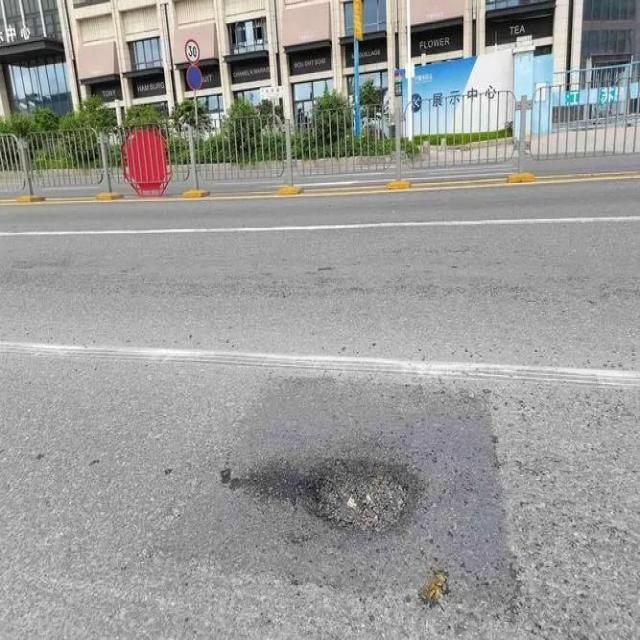Pothole: (269, 453, 418, 545)
